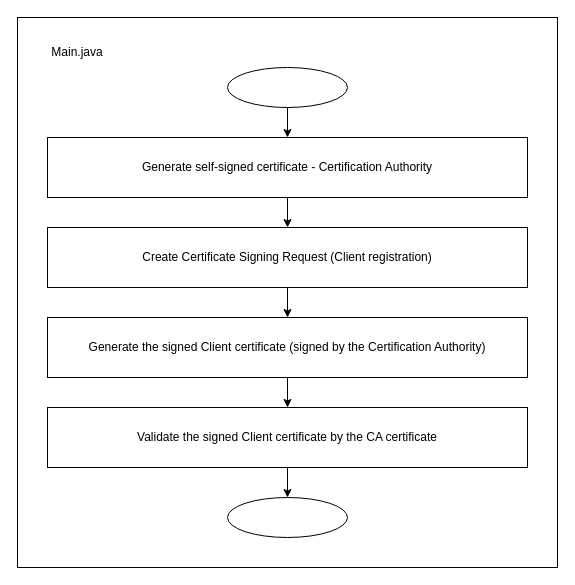
Some shapes in this 575 by 585 pixel diagram are drawn without their labels. Each missing label, with the box of its shape:
End: (226, 496, 348, 538)
Start: (226, 66, 348, 108)
